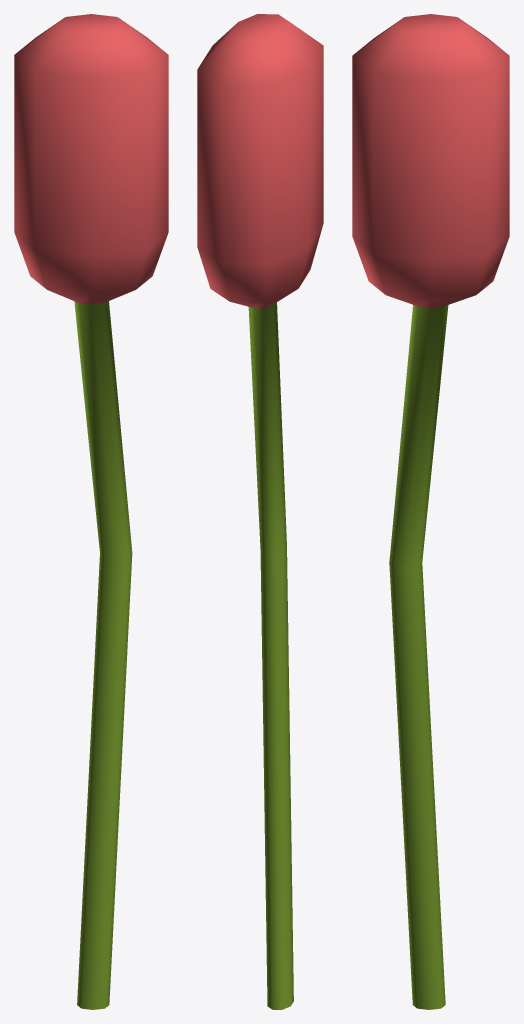
Rendered from Flower_32.fbx.
3 renders of one model, left to right at view 1: azimuth 90°, elevation 25°; view 2: azimuth 150°, elevation 25°; view 3: azimuth 270°, elevation 25°, orthographic.
Parts seen in each view (by area): view 1: Flower_32; view 2: Flower_32; view 3: Flower_32.
Part boxes in pixels (x1,y1,x2,y2): Flower_32: (14,14,168,1009); Flower_32: (197,14,323,1009); Flower_32: (352,14,509,1009).
Bounding box in the file's own units: 12.59 × 122 × 17.5.
